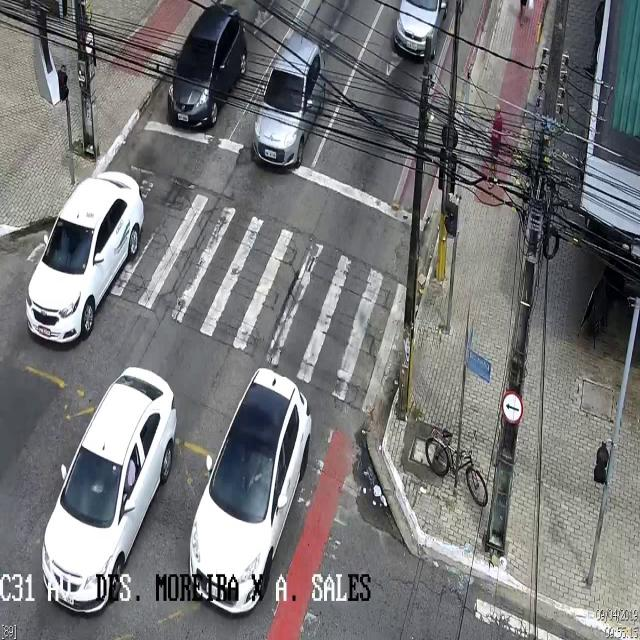Car: (42, 367, 176, 616), (188, 369, 312, 617), (24, 169, 144, 350), (166, 3, 248, 128), (254, 36, 326, 172), (393, 0, 448, 58)
